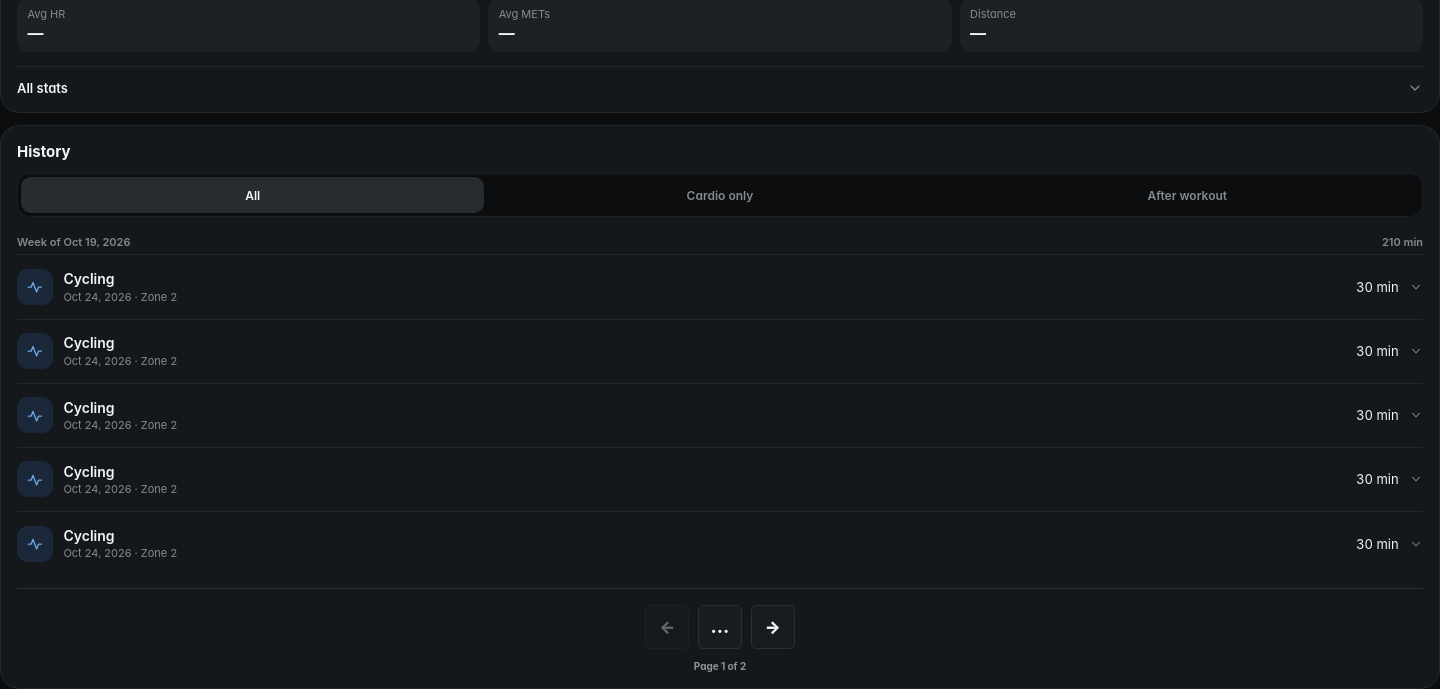
Test case: cardio weekly trend screen › keeps complete weekly totals when a group spans history pages and resets pagination on filtering
(page scrolled)
Expected: the number of elements with class "cardio-history-row" is 5, [17,269,1423,305]; [17,318,1423,383]; [17,383,1423,447]; [17,447,1423,511]; [17,511,1423,575]
Expected: the heading "Week of Oct 19, 2026 210 min" is shown, [17,235,1423,255]
Click the button named "Next cardio history page".
click(773, 627)  # box [751,605,795,649]
(page scrolled)
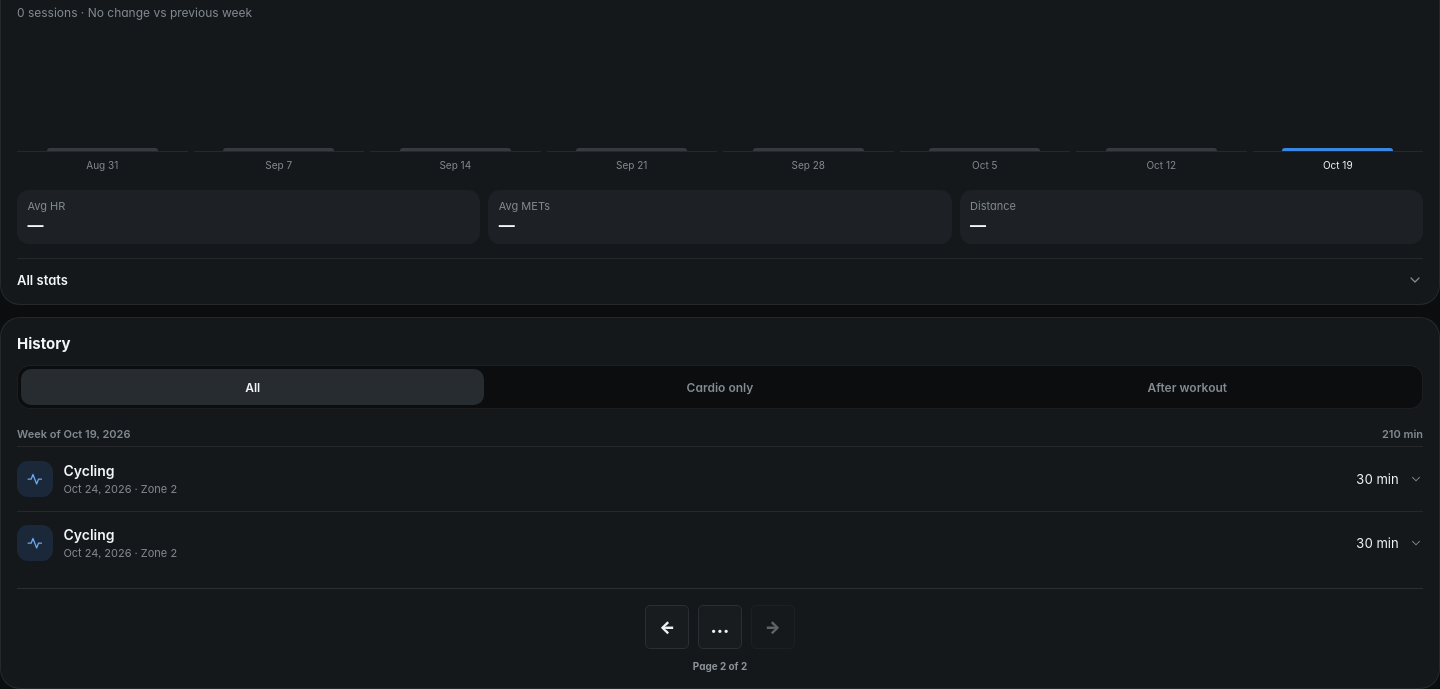
Expected: the heading "Week of Oct 19, 2026 210 min" is shown, [17,427,1423,447]
Expected: the number of elements with class "cardio-history-row" is 2, [17,461,1423,497]; [17,510,1423,575]
Click the button "Cardio only".
click(720, 387)  # box [488,369,952,405]
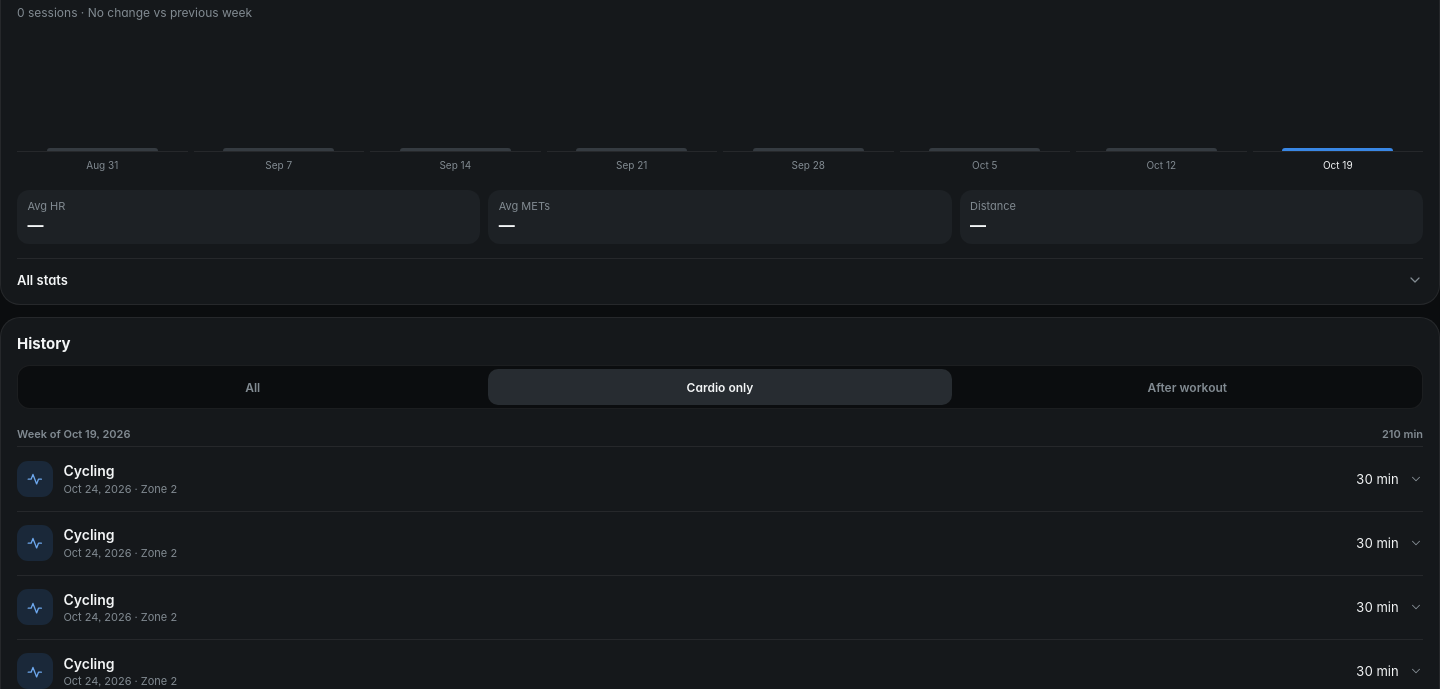
Expected: the number of elements with class "cardio-history-row" is 5
